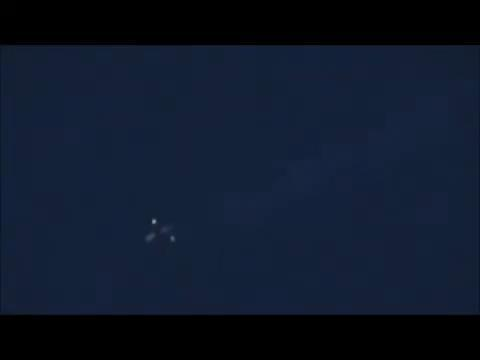Plane: (119, 207, 197, 255)
